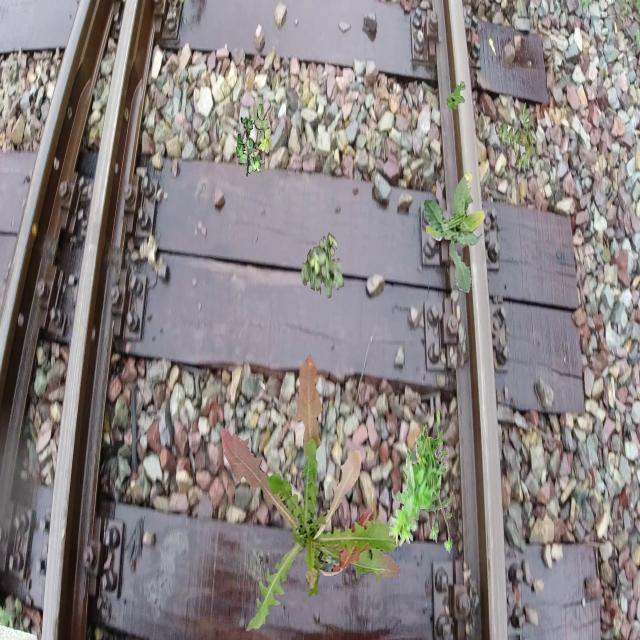Plant: (221, 353, 401, 631), (389, 411, 454, 554), (423, 169, 486, 294), (495, 102, 536, 174), (301, 232, 344, 298), (236, 103, 274, 176), (446, 81, 466, 114)
